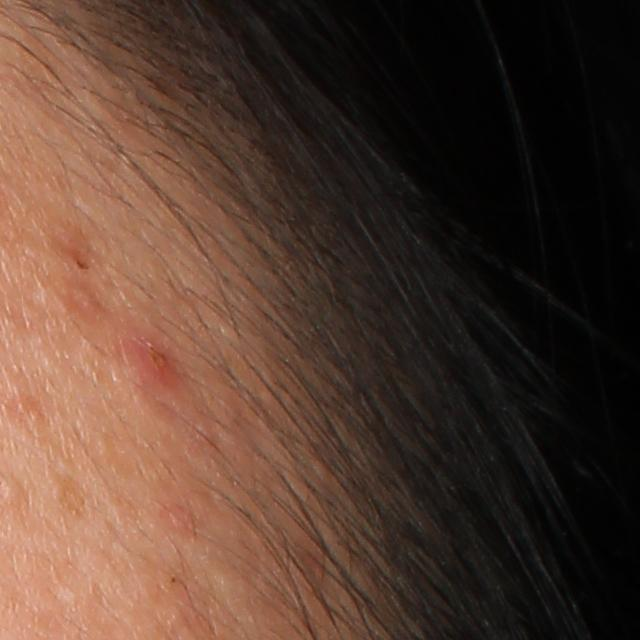papule: (131, 336, 181, 382)
